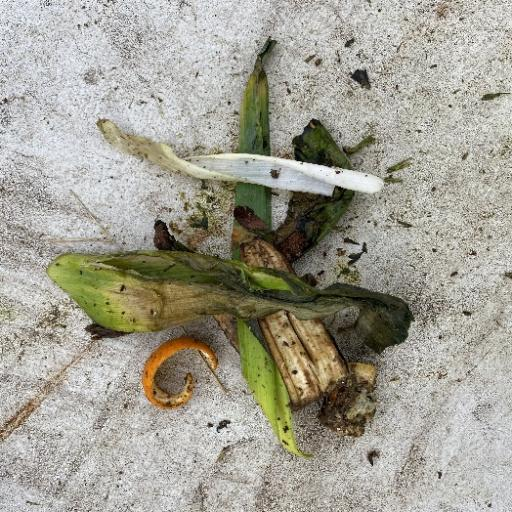Waste: (45, 38, 414, 459), (140, 336, 226, 410)
